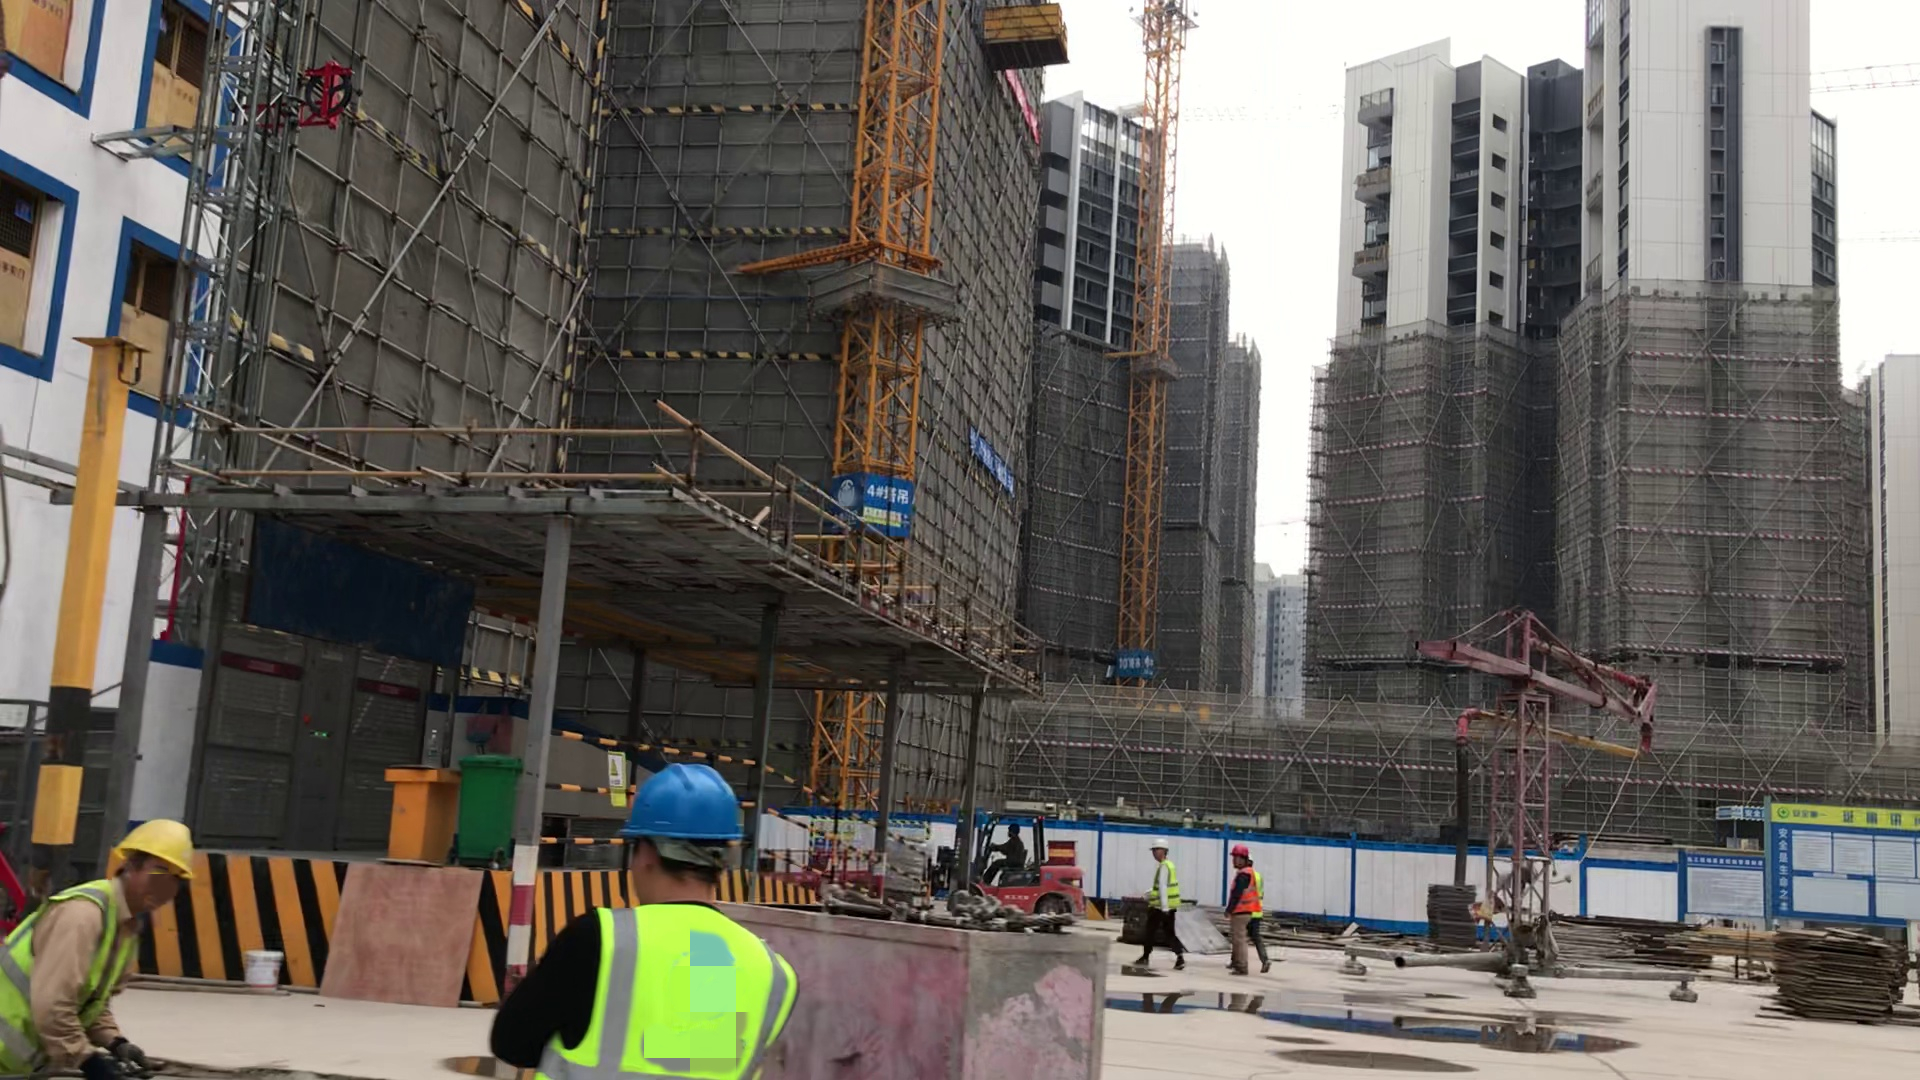board: (1765, 917, 1900, 1030)
fence: (523, 718, 938, 908)
helmet: (625, 758, 766, 861), (106, 799, 208, 881), (1228, 834, 1263, 870), (1143, 835, 1186, 865)
person: (478, 735, 831, 1080), (2, 768, 220, 1080), (1212, 830, 1277, 1003), (1136, 818, 1197, 993), (975, 815, 1052, 910)
slogan: (1741, 764, 1920, 974), (813, 450, 929, 550), (1657, 835, 1773, 931), (952, 412, 1019, 511), (585, 734, 640, 811), (1102, 638, 1166, 687), (1707, 788, 1761, 842)
vest: (521, 897, 819, 1080), (6, 851, 153, 1077), (1144, 859, 1190, 920), (1224, 864, 1266, 924), (1254, 873, 1270, 920)
wood: (1655, 917, 1772, 959)
